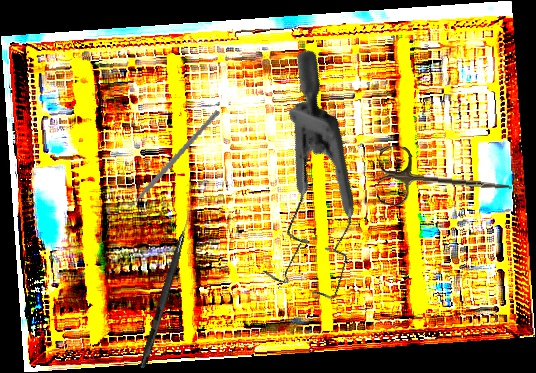Chopper: (114, 94, 221, 227)
Hook Surgical: (139, 203, 195, 370)
Iris Scissors: (376, 145, 514, 214)
Speculum: (175, 46, 432, 324)
